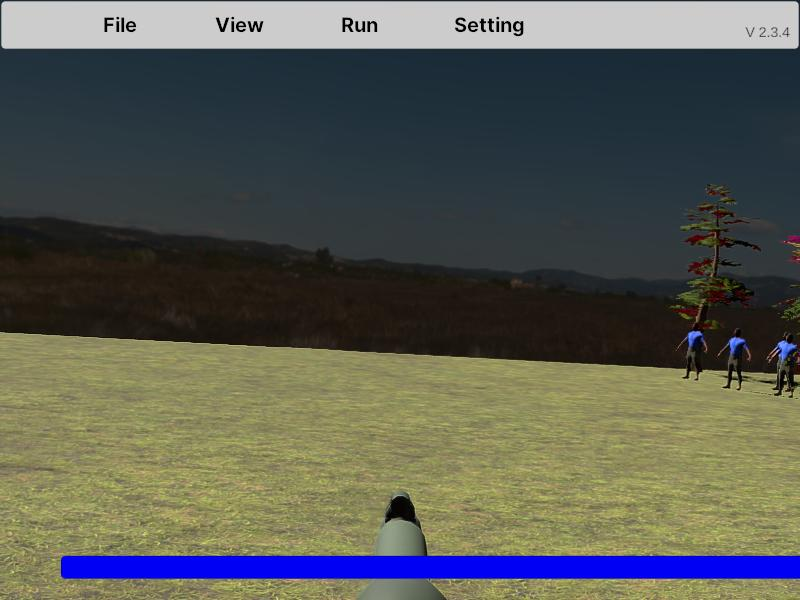Human: (717, 327, 751, 391), (768, 330, 799, 397), (676, 321, 708, 381)
